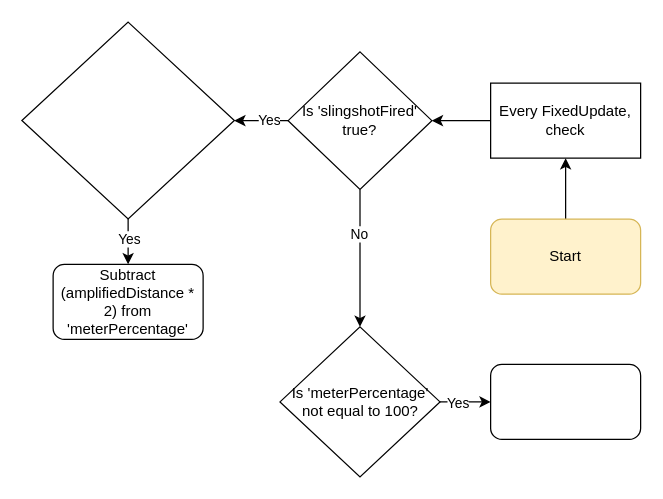
Some shapes in this 663 by 499 pixel diagram are drawn without their labels. Here are the shapes that lost their labels. From the top down, the centre of each, then its label:
the point at 127,120: Is there enough 'meterPercentage' equal to (amplifiedDistance * 2)
the point at 565,401: Add 5 to 'meterPercentage'
